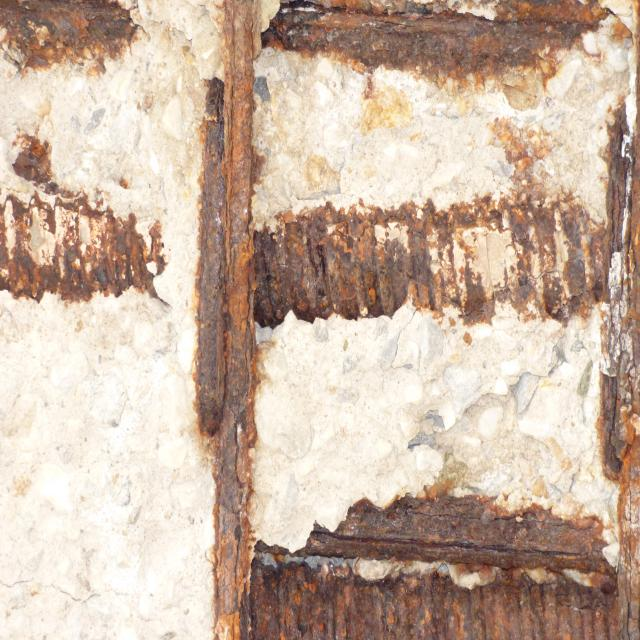corrosion: (194, 0, 640, 640), (0, 126, 173, 322), (0, 0, 154, 91)
